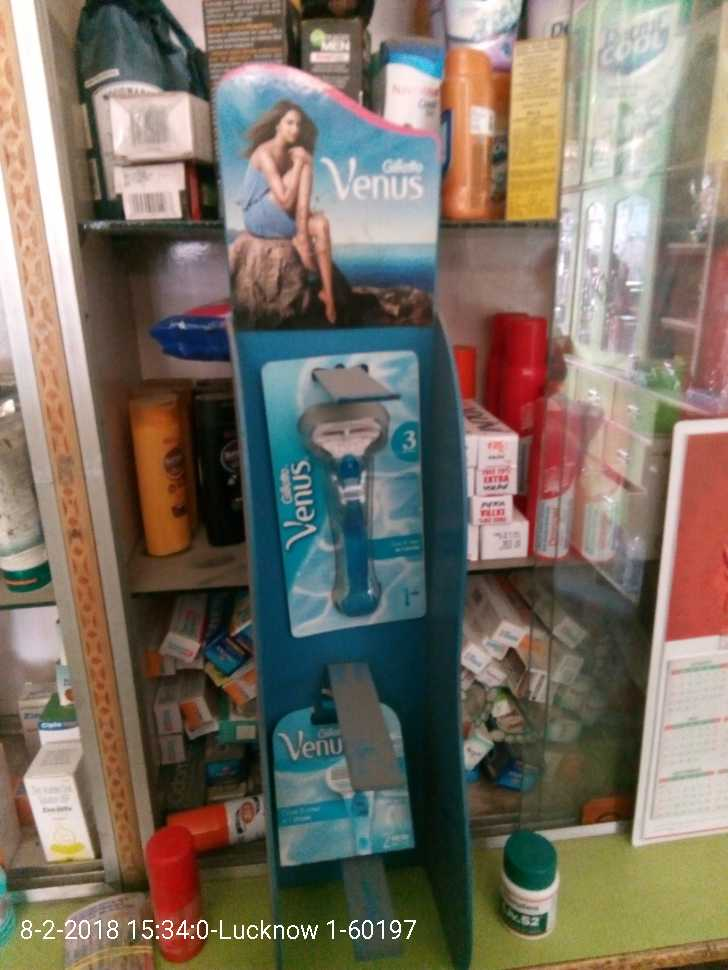venus: (260, 356, 436, 628), (263, 694, 420, 866)
